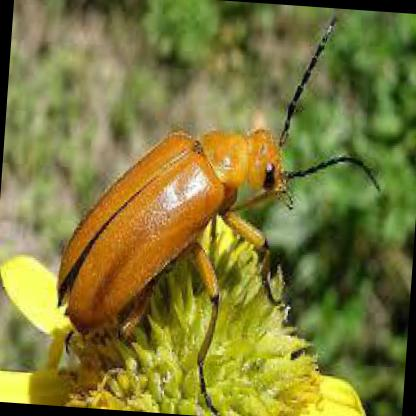blister beetle: (58, 19, 368, 333)
